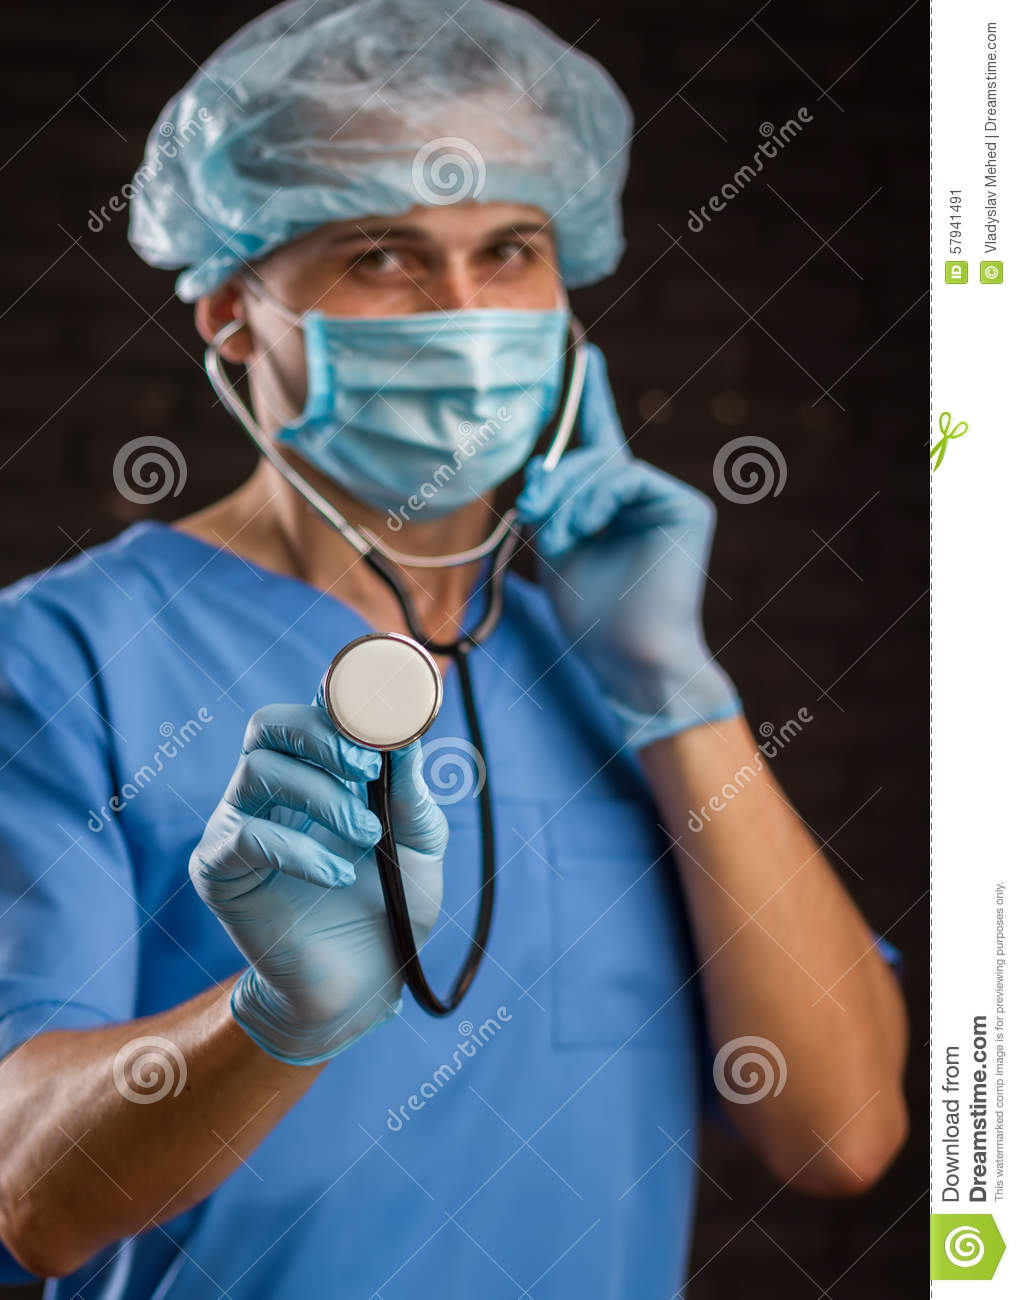mask: (287, 309, 572, 525)
